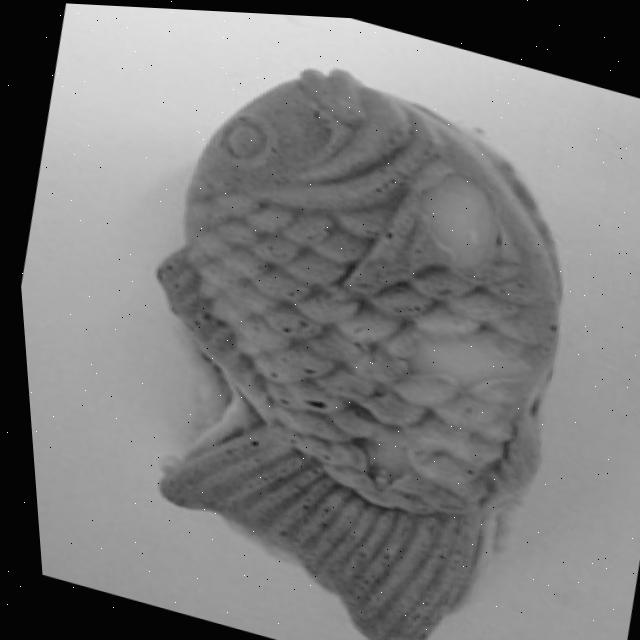熟制海鲜: (54, 21, 623, 640)
